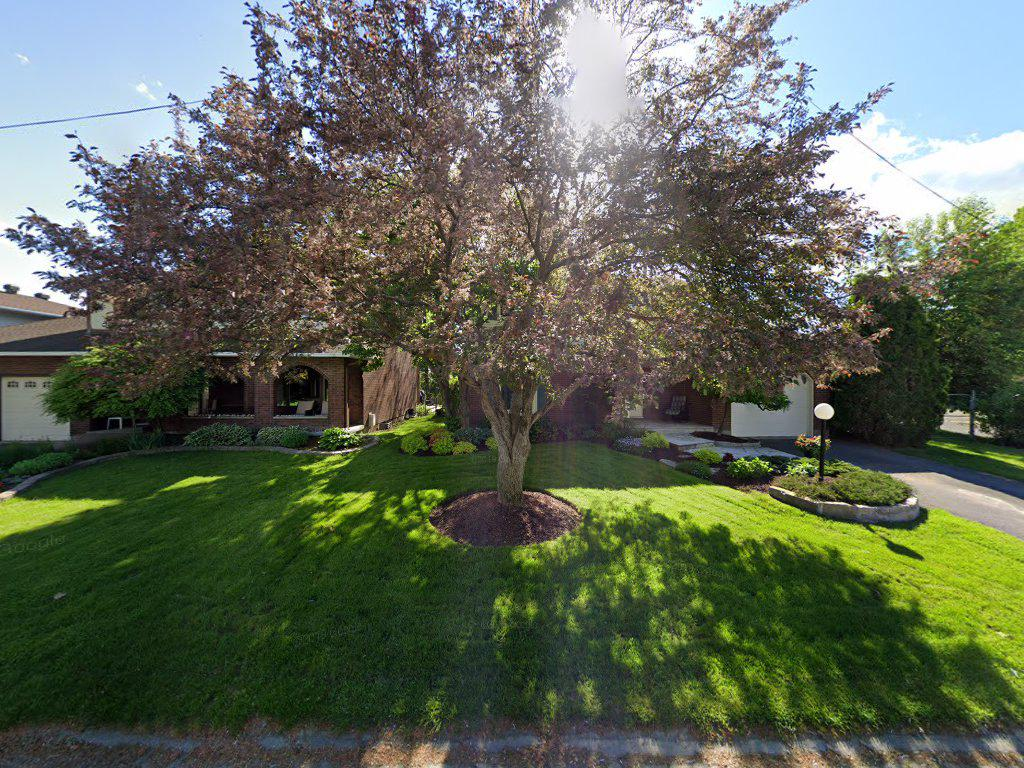trunk: (478, 367, 542, 522)
